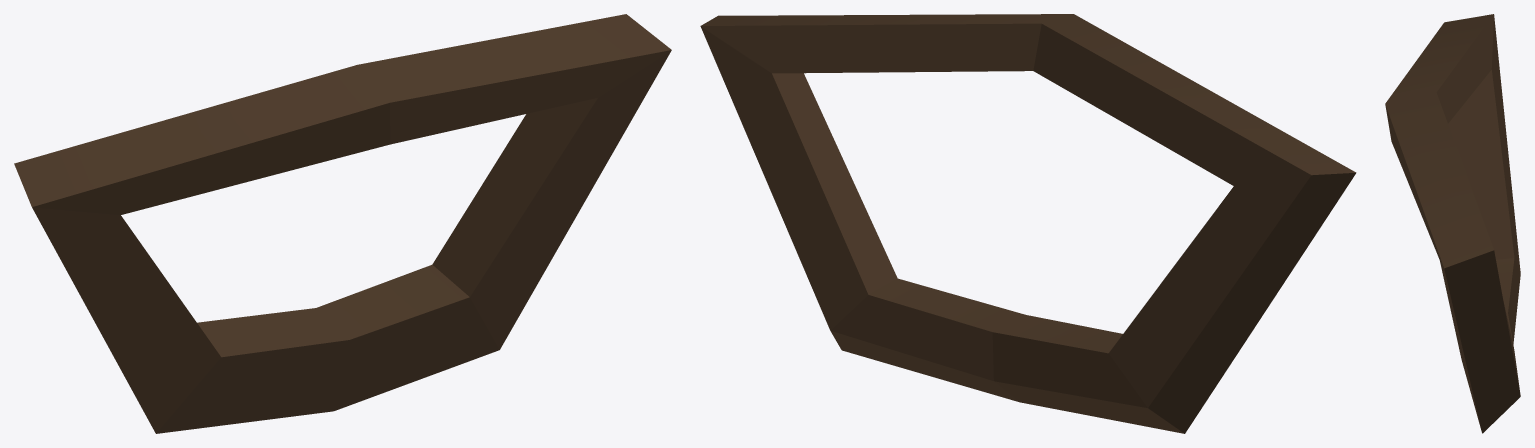
The model's file is Vello_BarbaCandado.fbx.
3 renders of one model, left to right at view 1: azimuth 30°, elevation 25°; view 2: azimuth 150°, elevation 25°; view 3: azimuth 270°, elevation 25°, orthographic. The views are drawn at different scales.
Parts seen in each view (by area): view 1: Barba_Candado; view 2: Barba_Candado; view 3: Barba_Candado.
Part boxes in pixels (bbox=[...]): Barba_Candado: bbox=[14, 14, 671, 433]; Barba_Candado: bbox=[700, 14, 1356, 433]; Barba_Candado: bbox=[1385, 14, 1520, 433].
Size of the model in its own units: 1.07 by 0.5813 by 0.2489.
